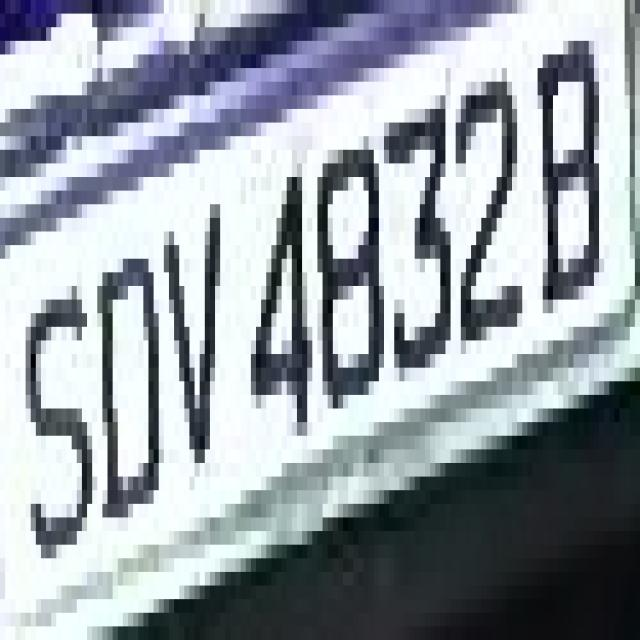2: (446, 54, 528, 395)
3: (369, 68, 466, 409)
4: (245, 123, 322, 490)
8: (312, 122, 389, 436)
B: (532, 0, 614, 340)
D: (82, 191, 164, 572)
S: (16, 232, 102, 586)
V: (164, 190, 235, 518)
